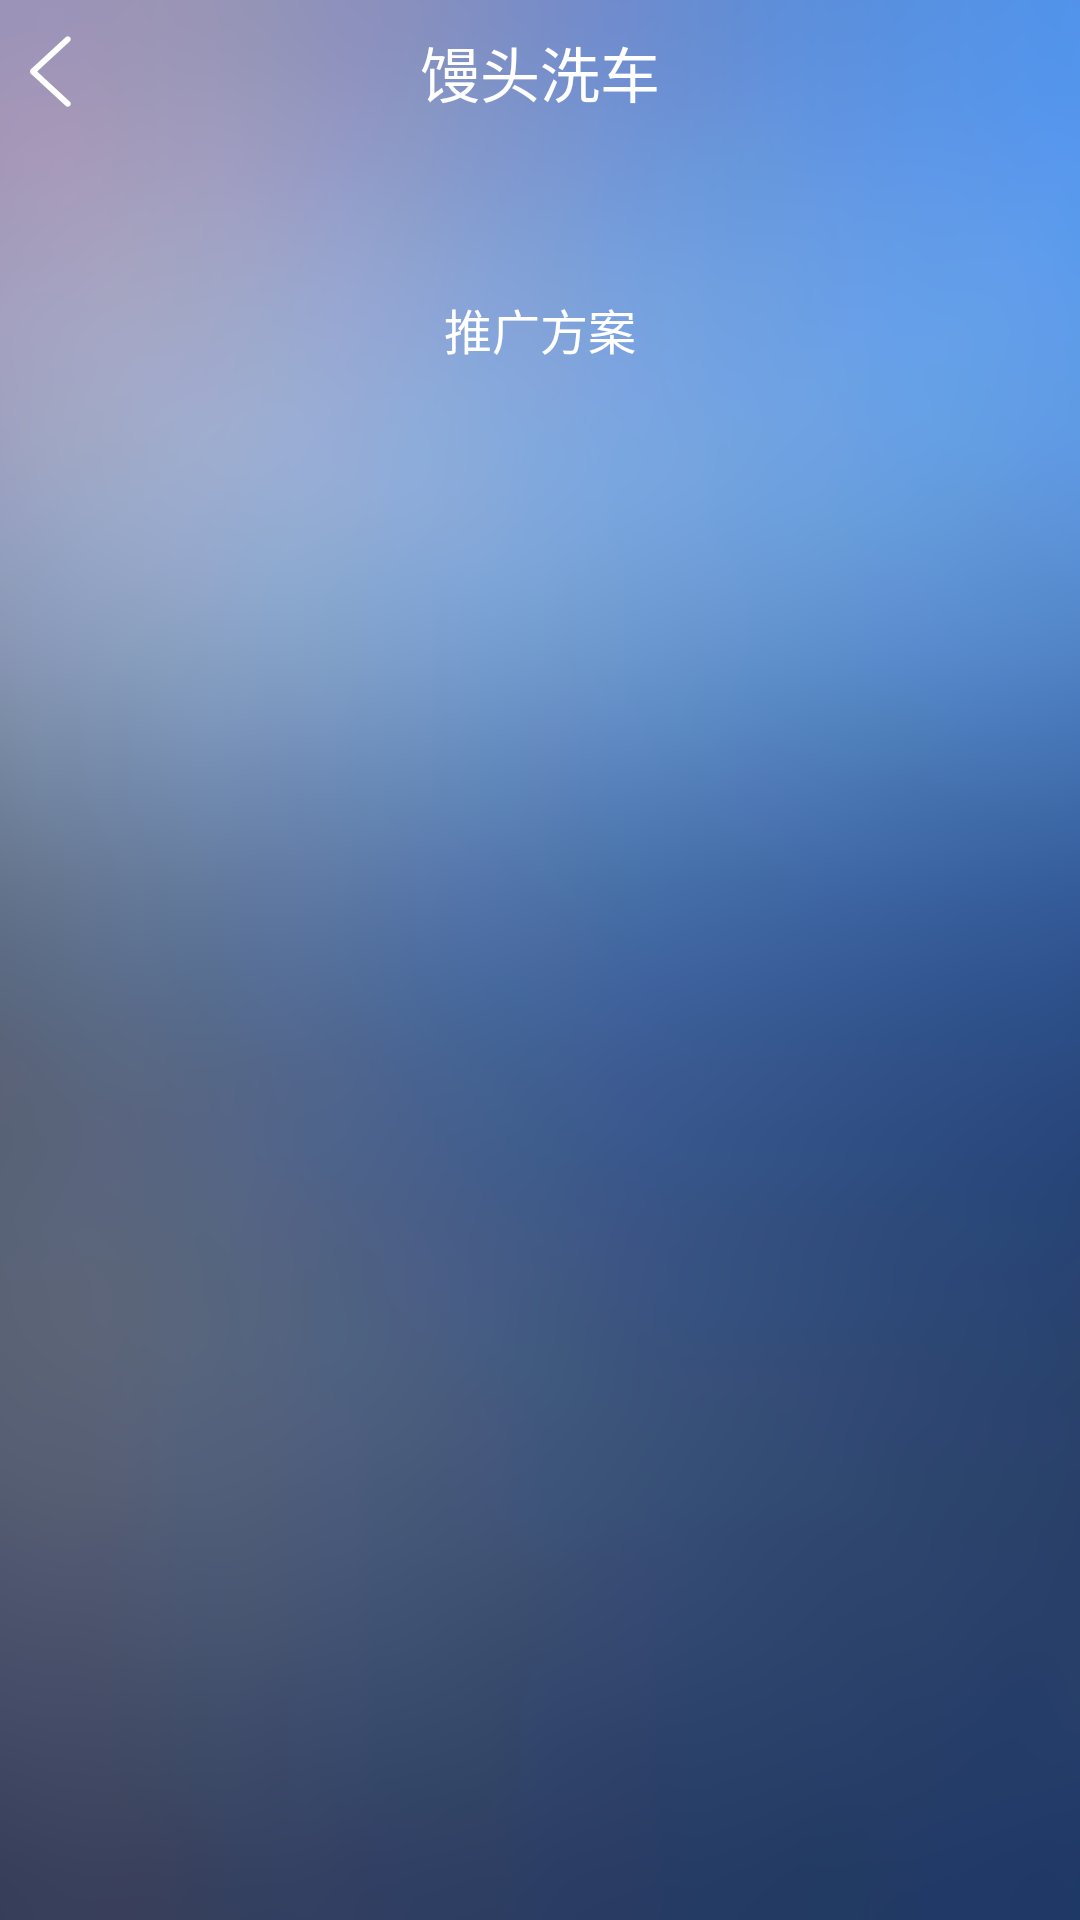

Screen size 1080w x 1920h. Icon name, then its center in pixels as (x,y):
titlebar back: (50,71)
